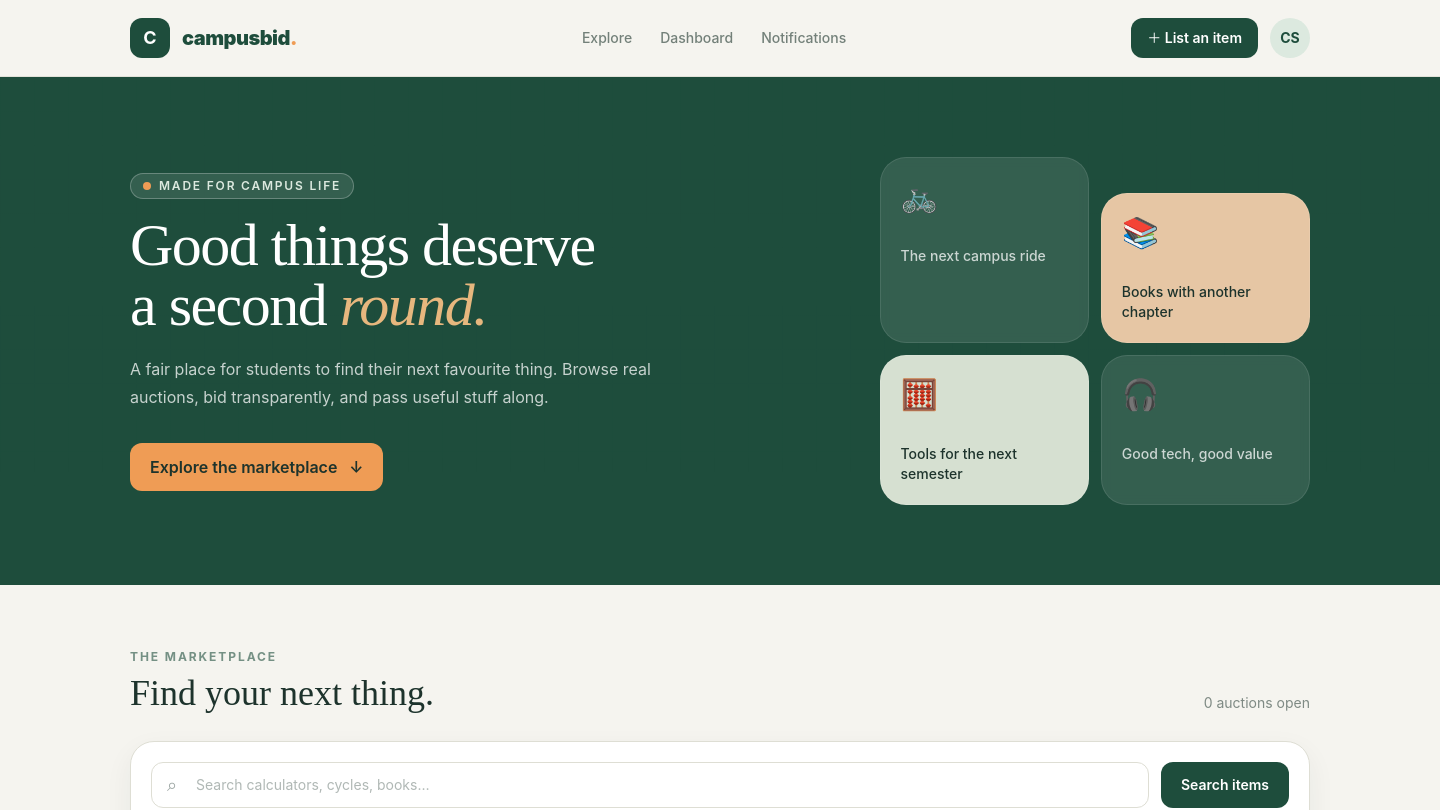
Scenario: profile navigation and authentication checks › opens the profile from the avatar without logging out and shows available account details
This screenshot has width=1440, height=810.
Click the link with aria-label "Profile" at (1290,38), box [1270,18,1310,58]
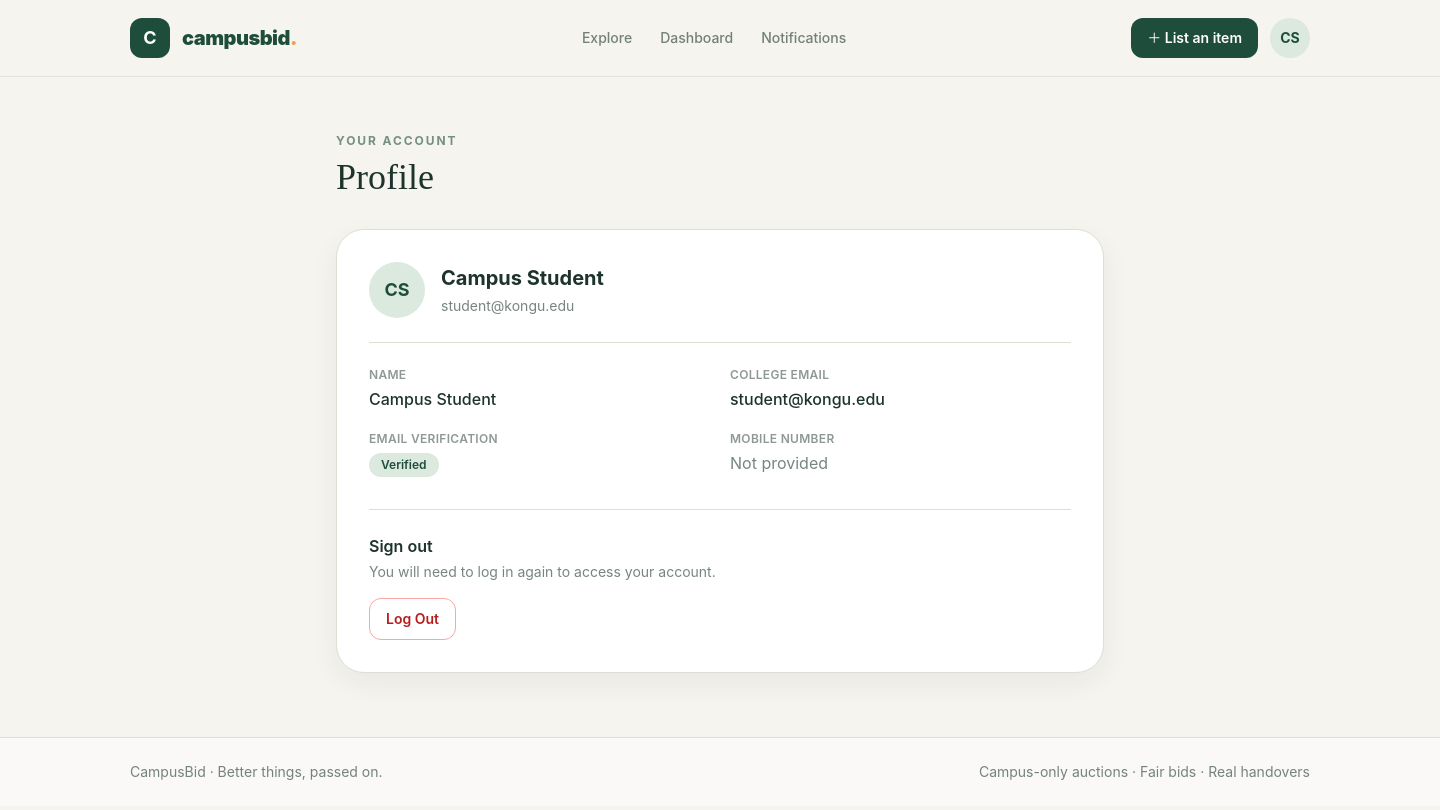
Expected: the heading "Profile" is shown, [336,157,434,197]
Expected: the heading "Campus Student" is shown, [441,264,604,292]
Expected: the text "student@kongu.edu" is shown 2 times, [441,297,574,314]; [730,389,885,409]
